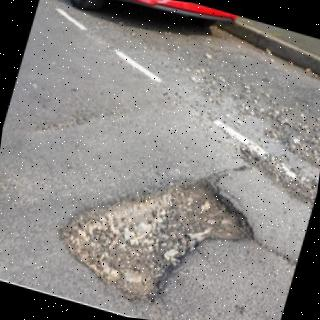pothole: (60, 180, 254, 302)
